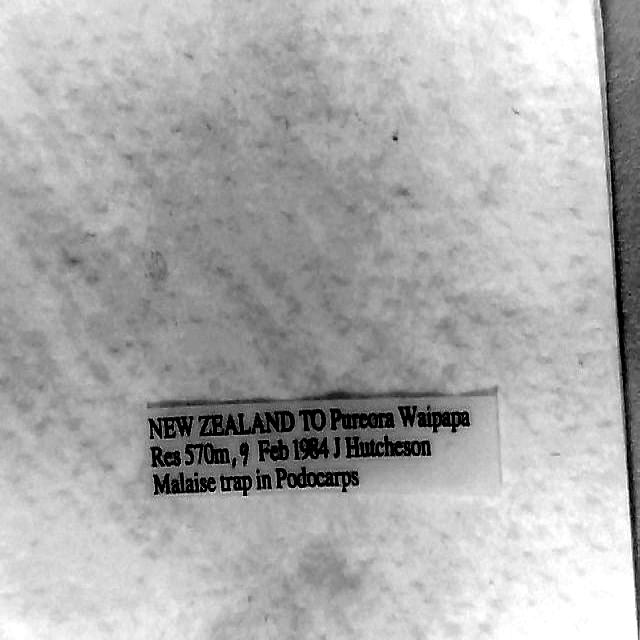typed_label: (148, 396, 500, 497)
